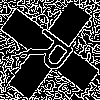R: (25, 25, 83, 81)
